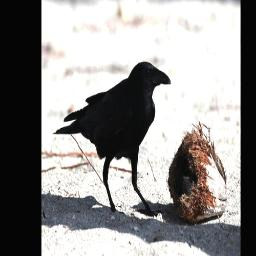Crow: (52, 61, 172, 219)
